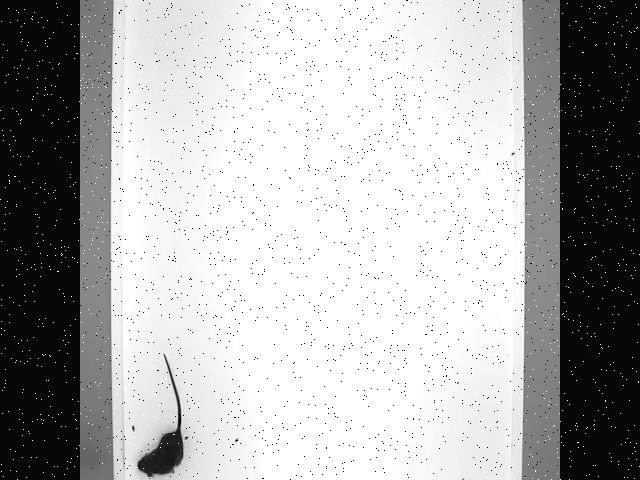Tikus: (132, 346, 188, 480)
